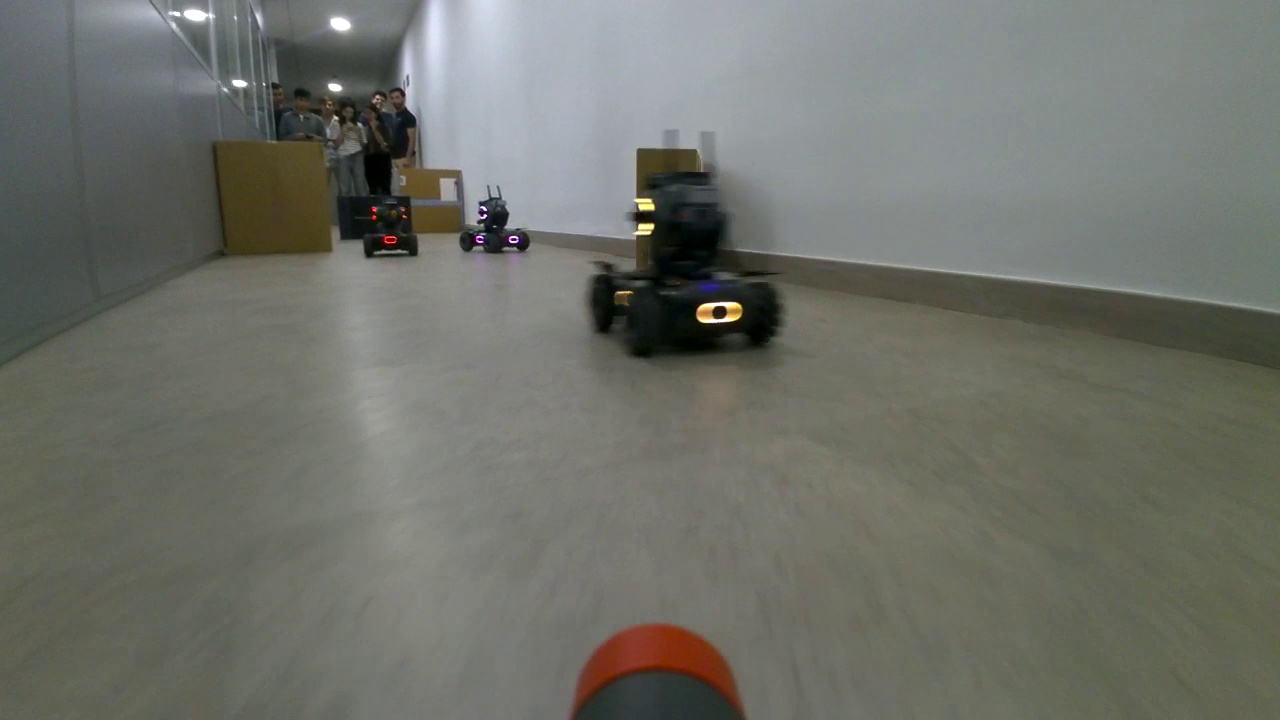robot: (582, 165, 783, 361), (458, 196, 533, 257), (358, 200, 421, 261)
